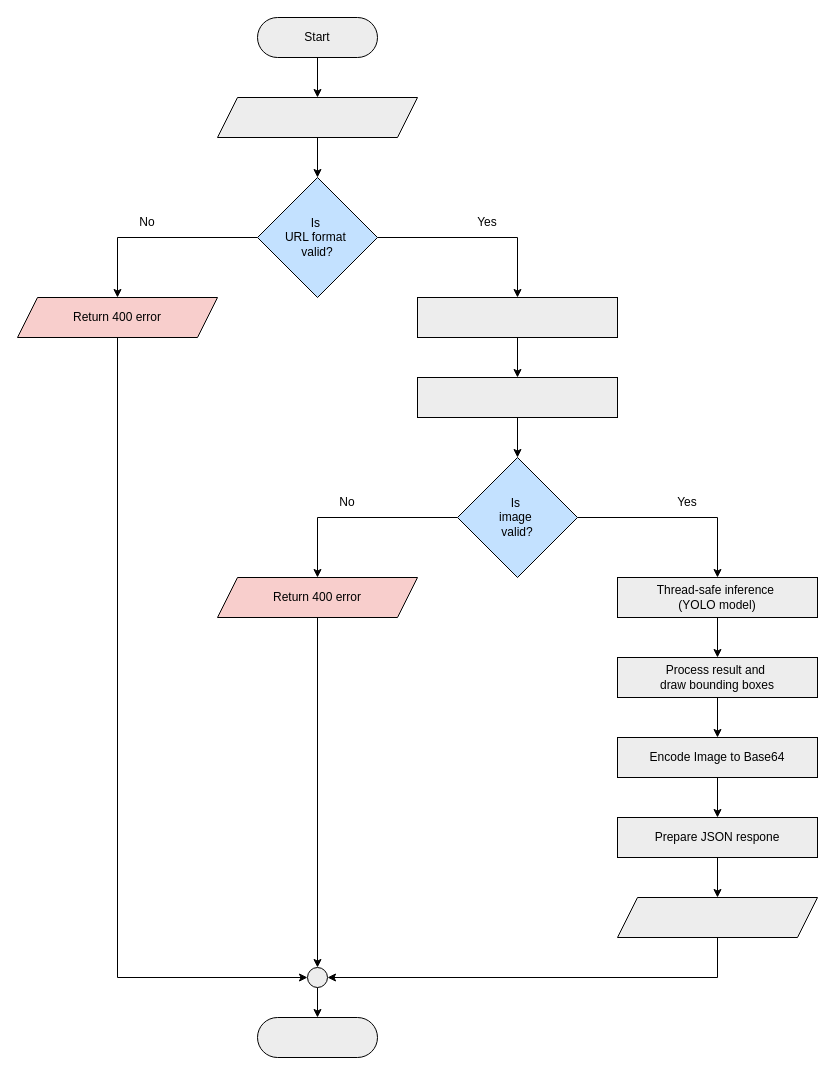
This 835x1075 diagram has some shape labels left out. The centre of each missing label's shape, as x and y in pixels:
"Acquire Semaphore Slot (Max 10 Concurrent)" belongs at [517,317].
"Client sends POST /detect endpoint" belongs at [317,117].
"End" belongs at [317,1037].
"Extract one frame from video" belongs at [517,397].
"Return Detection Result" belongs at [717,917].
